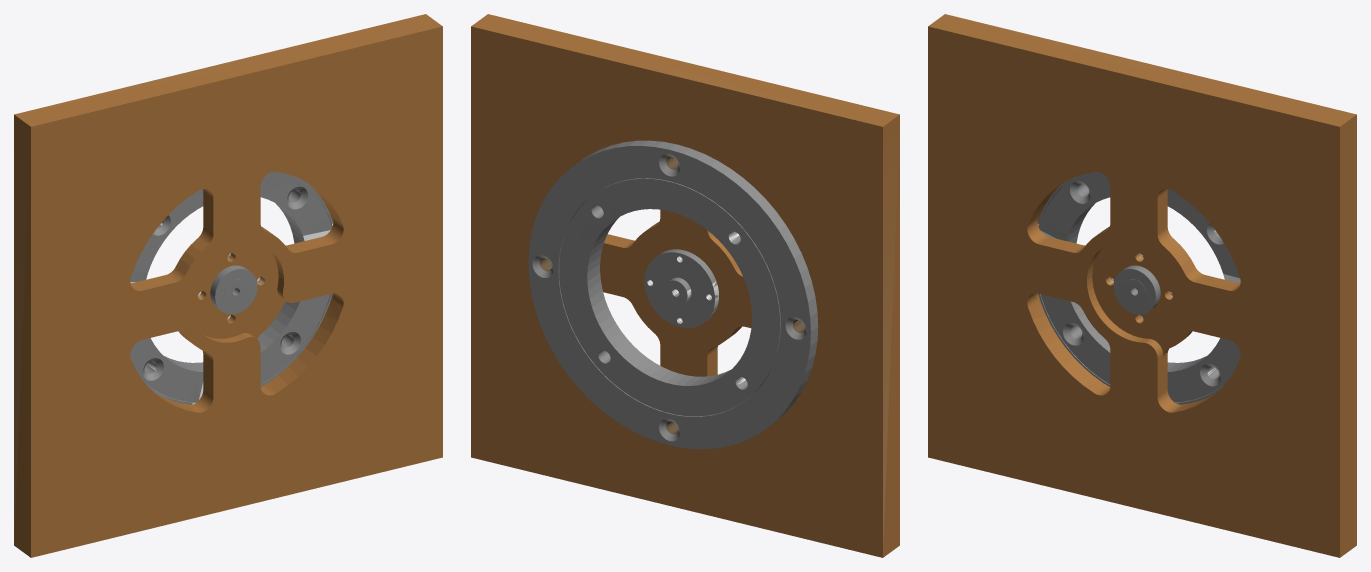
The picture shows the model from 3 angles, left to right: view 1: azimuth 30°, elevation 25°; view 2: azimuth 150°, elevation 25°; view 3: azimuth 330°, elevation 25°; orthographic projection.
Parts seen in each view (by area): view 1: Base, Base_001; view 2: Base, Base_001; view 3: Base, Base_001.
Part boxes in pixels (bbox=[...]): Base: bbox=[14, 14, 442, 557]; Base_001: bbox=[130, 171, 333, 404]; Base: bbox=[471, 14, 899, 557]; Base_001: bbox=[528, 140, 818, 449]; Base: bbox=[928, 14, 1356, 557]; Base_001: bbox=[1037, 171, 1240, 404].
Bounding box in the file's own units: 175 × 17.9 × 175.
